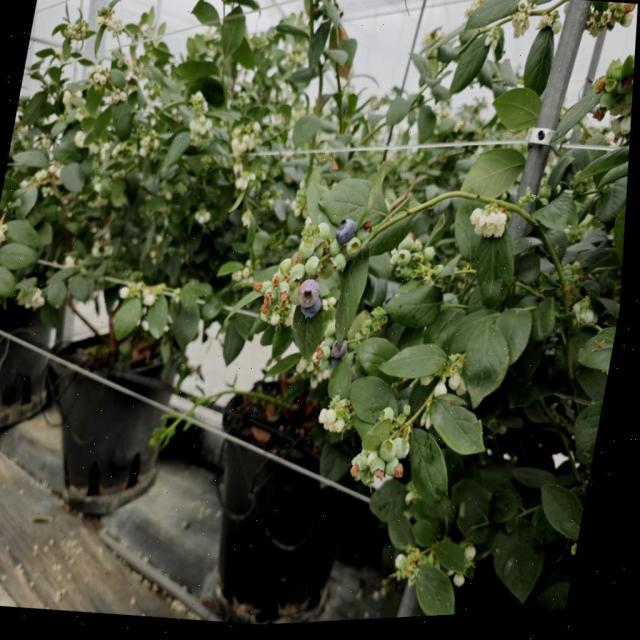RipeBlueBerry: (336, 220, 361, 250)
Semi-RipeBlueBerry: (298, 280, 326, 314)
UnripeBlueBerry: (383, 441, 405, 468)
